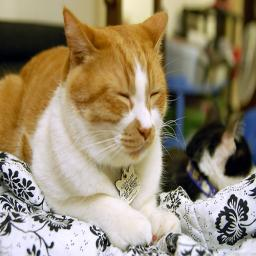catnose: (136, 125, 153, 143)
